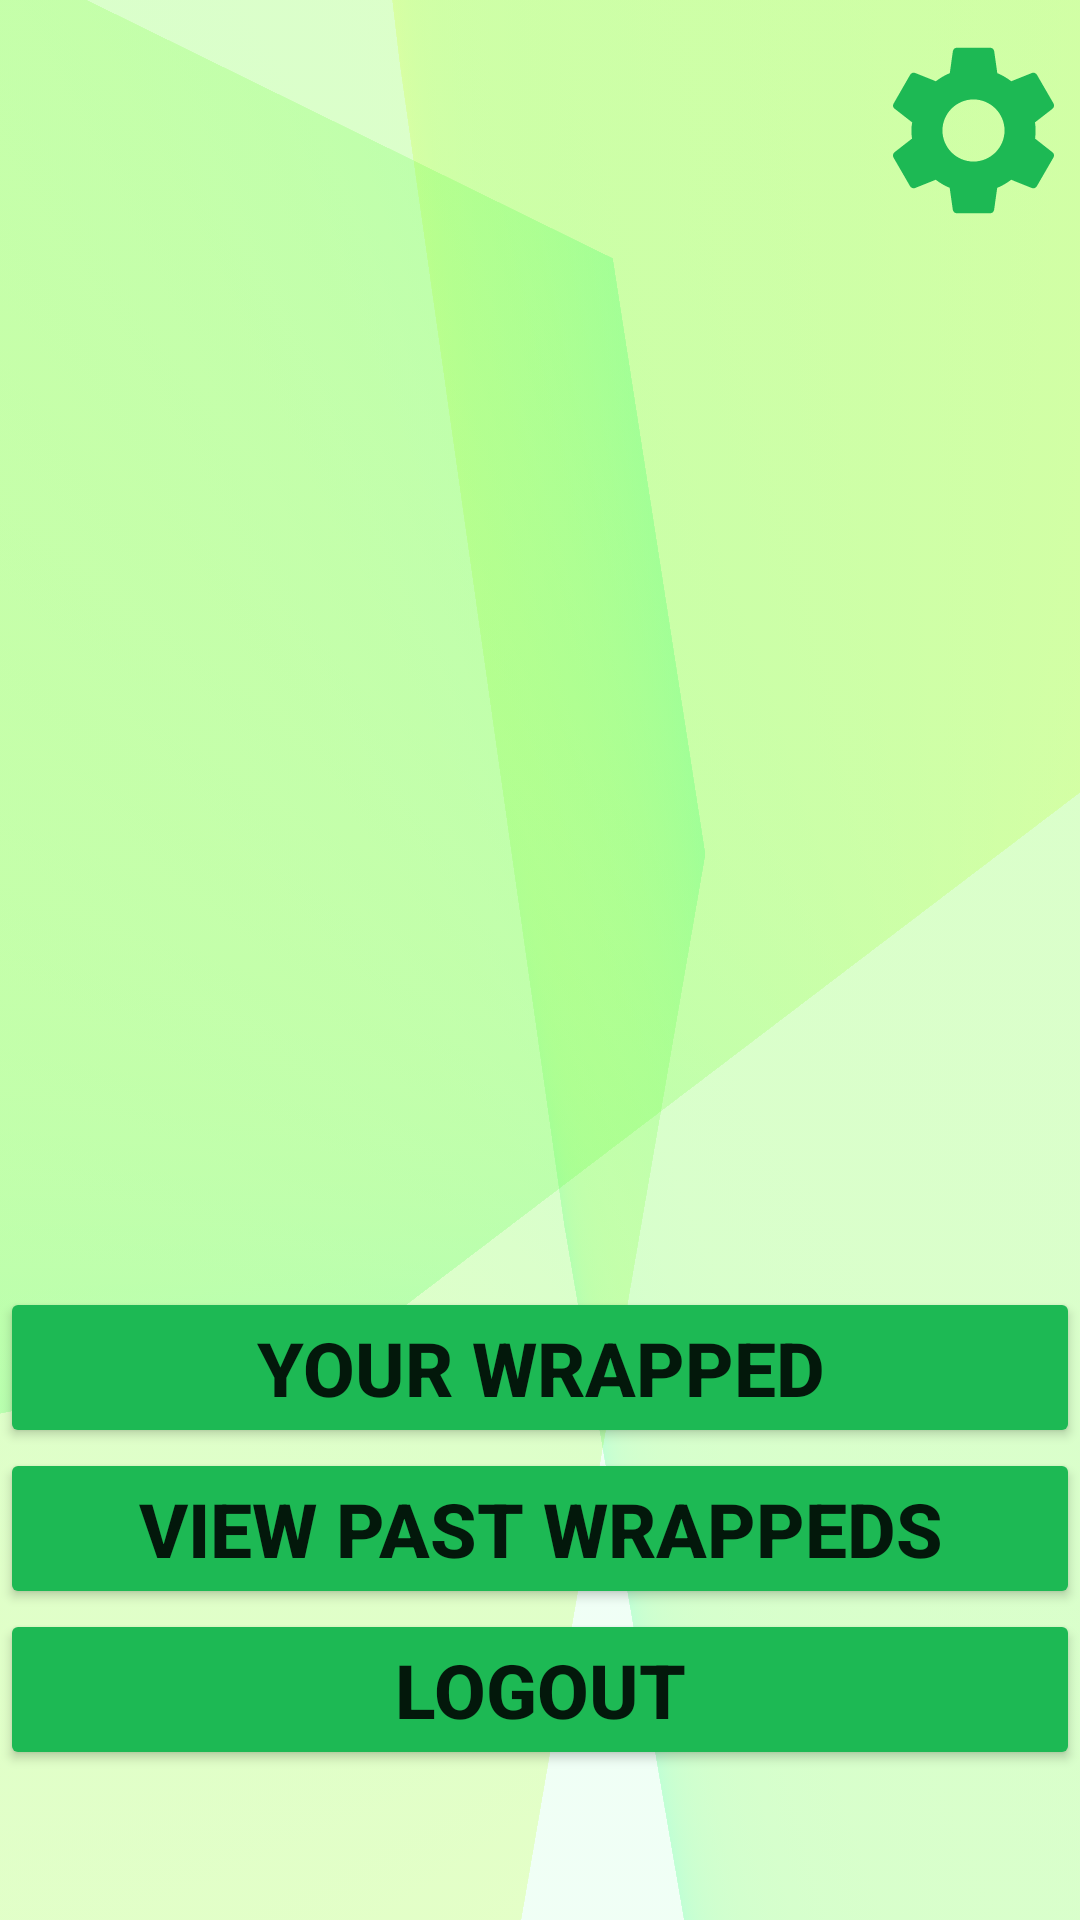

Named icons in this screenshot (1080*1920) and their centers, (x,y):
settings: (973,130)
